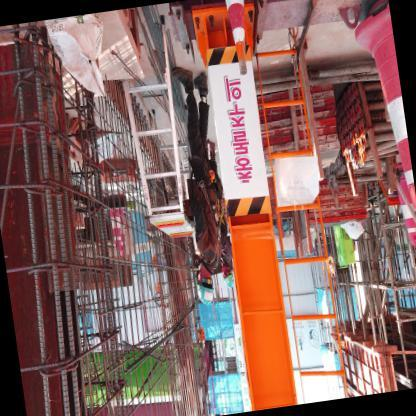safety-shoe: (169, 57, 197, 95), (190, 69, 210, 97)
